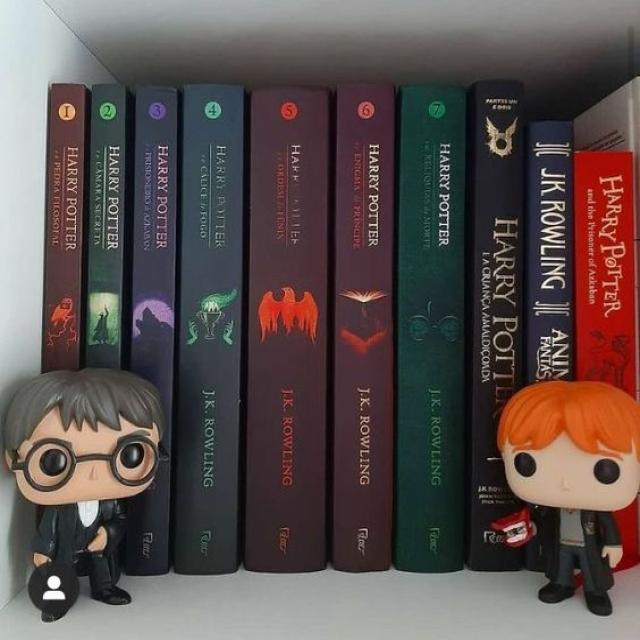book: (246, 91, 330, 571), (398, 88, 466, 573), (175, 84, 241, 575), (336, 95, 389, 571), (470, 84, 526, 389), (575, 149, 635, 385), (523, 120, 575, 381), (131, 92, 175, 369), (45, 84, 81, 368), (91, 86, 122, 367)
figurine: (0, 369, 161, 623), (497, 385, 639, 614)
